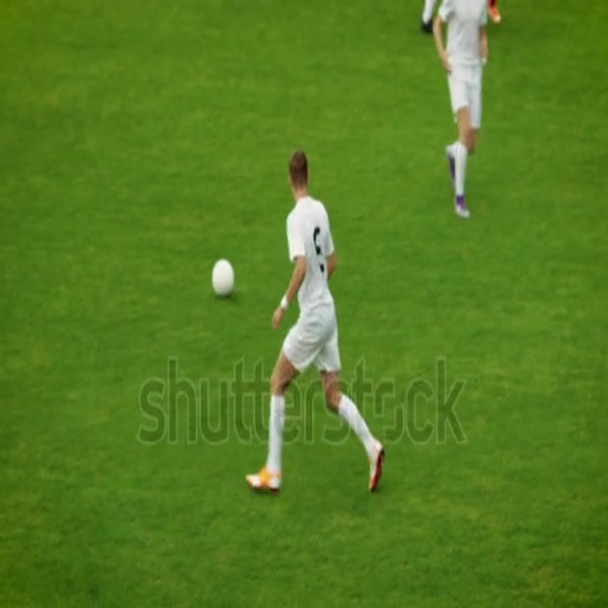ball: (215, 258, 232, 287)
